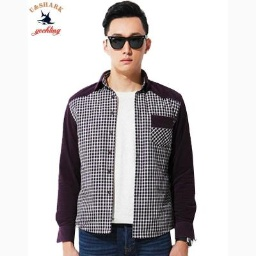face: (101, 1, 153, 75)
